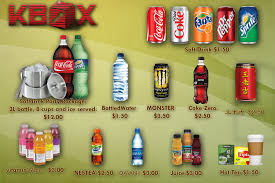coke: (146, 3, 167, 47)
